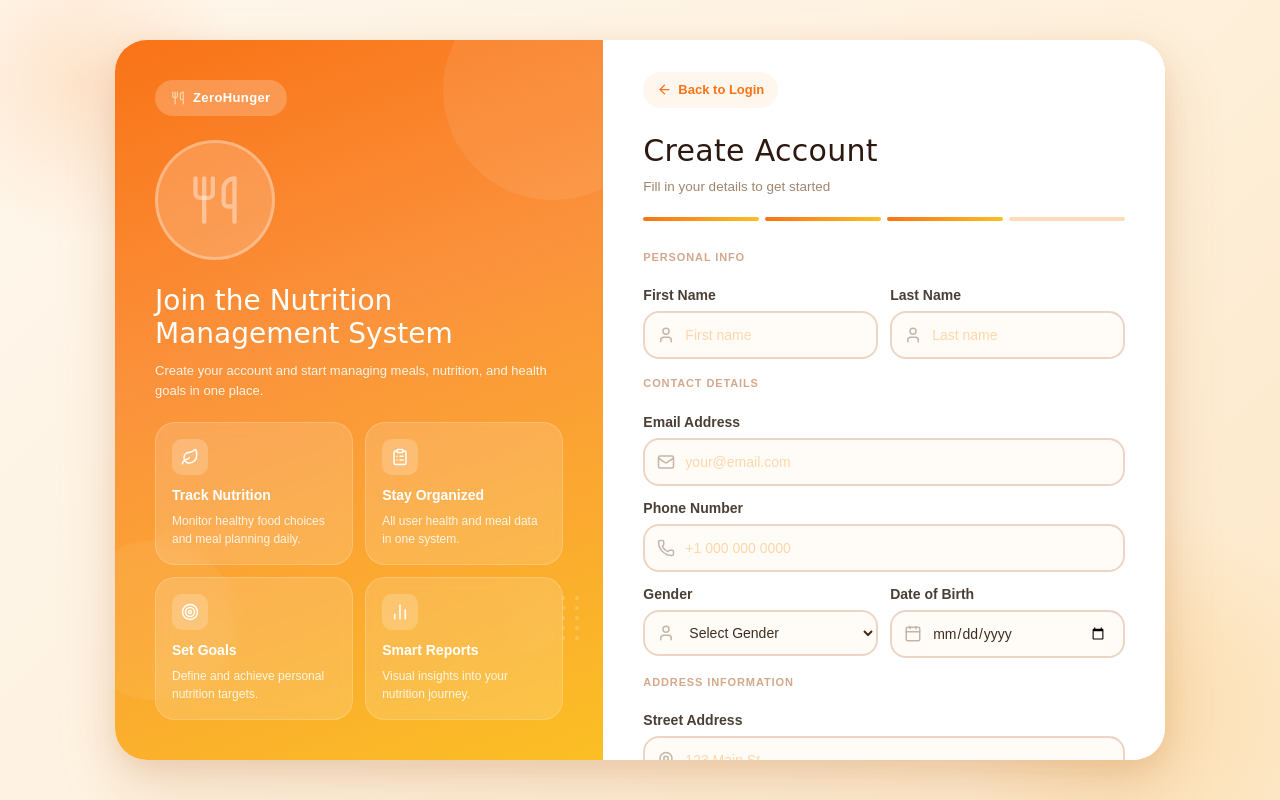
Test case: RegisterPage › shows validation error when passwords do not match
Type "John" into the field with placeholder "First name".
click(761, 335); type("John")  # box [643, 311, 878, 359]
Type "Doe" into the field with placeholder "Last name".
click(1008, 335); type("Doe")  # box [890, 311, 1125, 359]
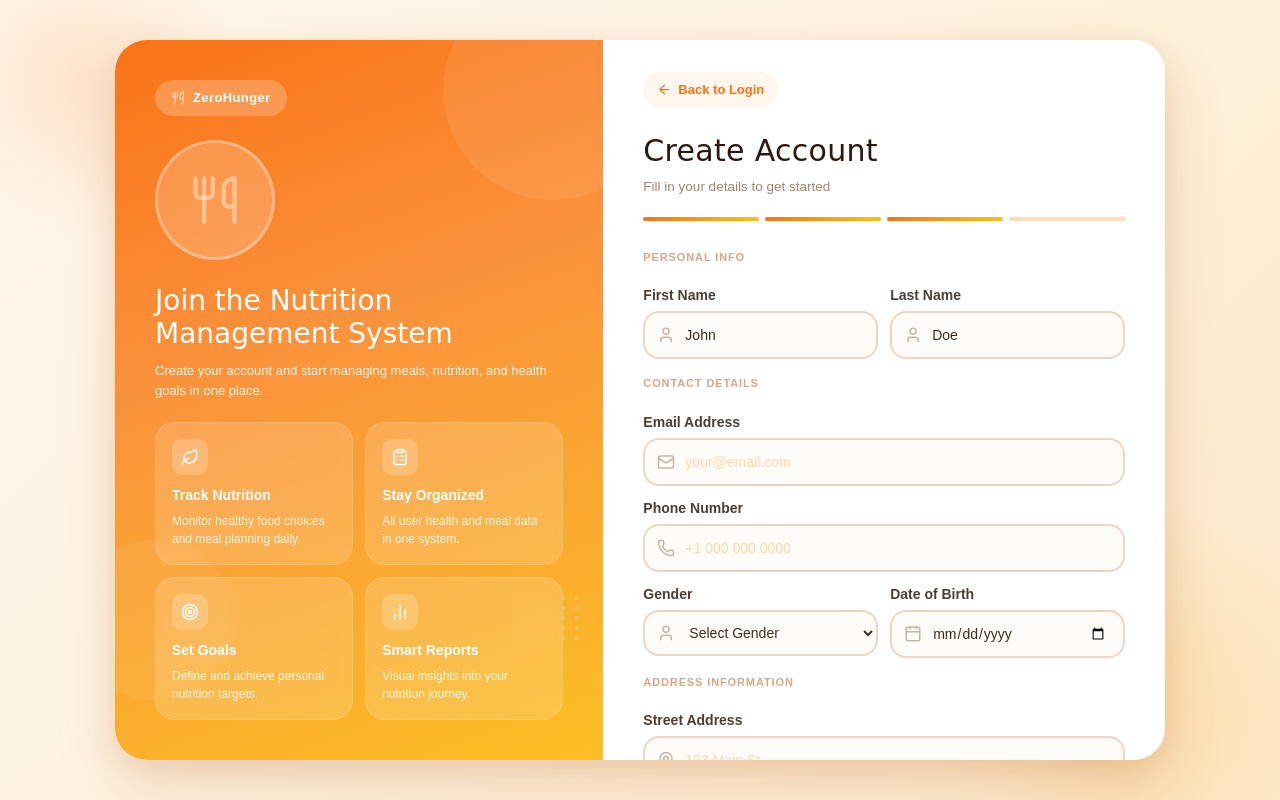
Type "john@mail.com" into the field with placeholder "your@email.com".
click(884, 462); type("john@mail.com")  # box [643, 438, 1125, 486]
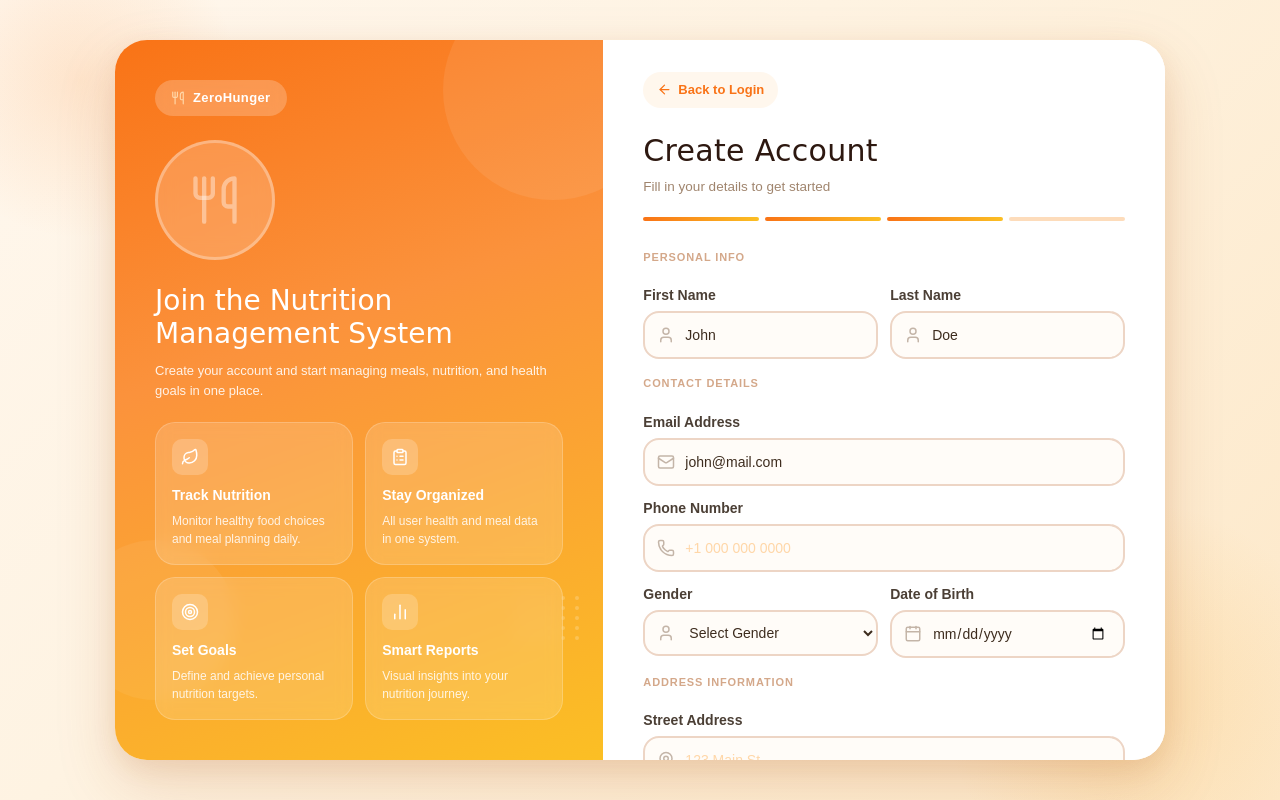
Type "1234567890" into the field with placeholder "+1 000 000 0000".
click(884, 548); type("1234567890")  # box [643, 524, 1125, 572]
(page scrolled)
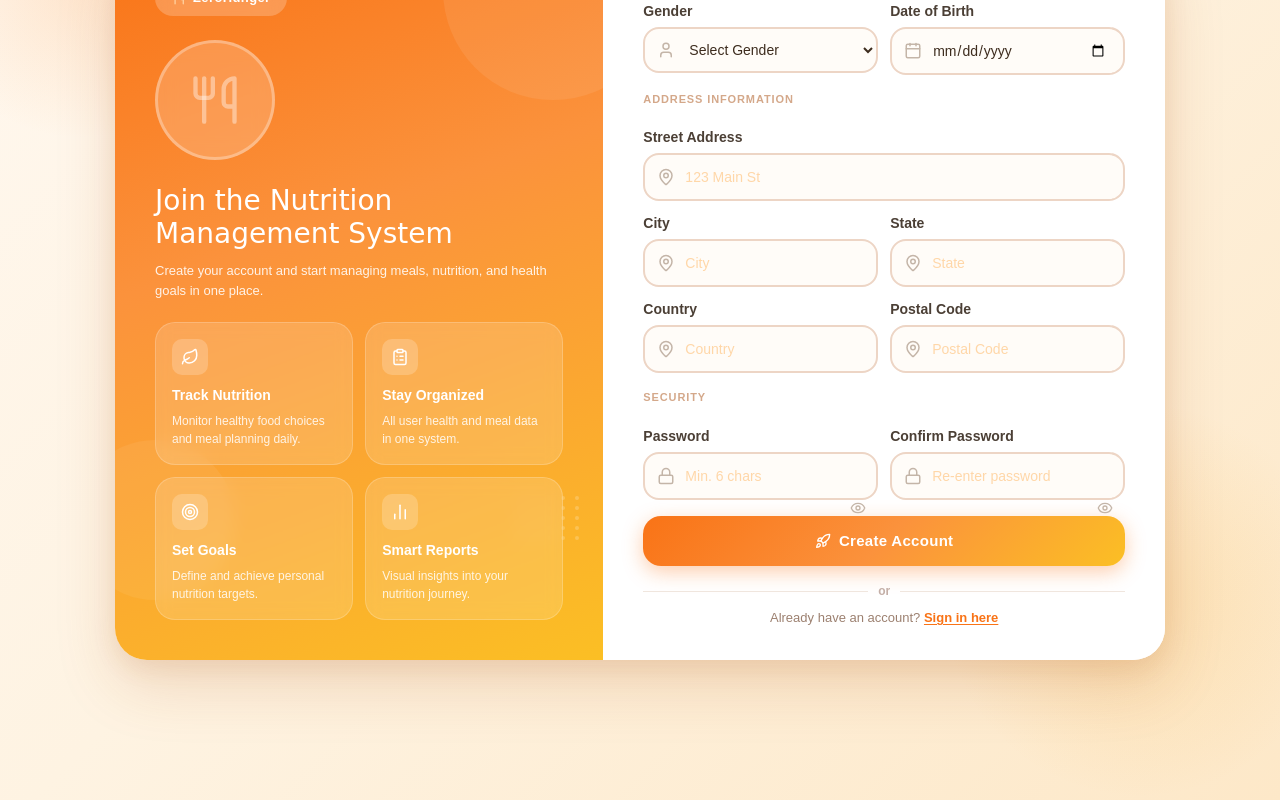
Type "password123" into the password field with placeholder "Min. 6 chars".
click(761, 476); type("password123")  # box [643, 452, 878, 500]
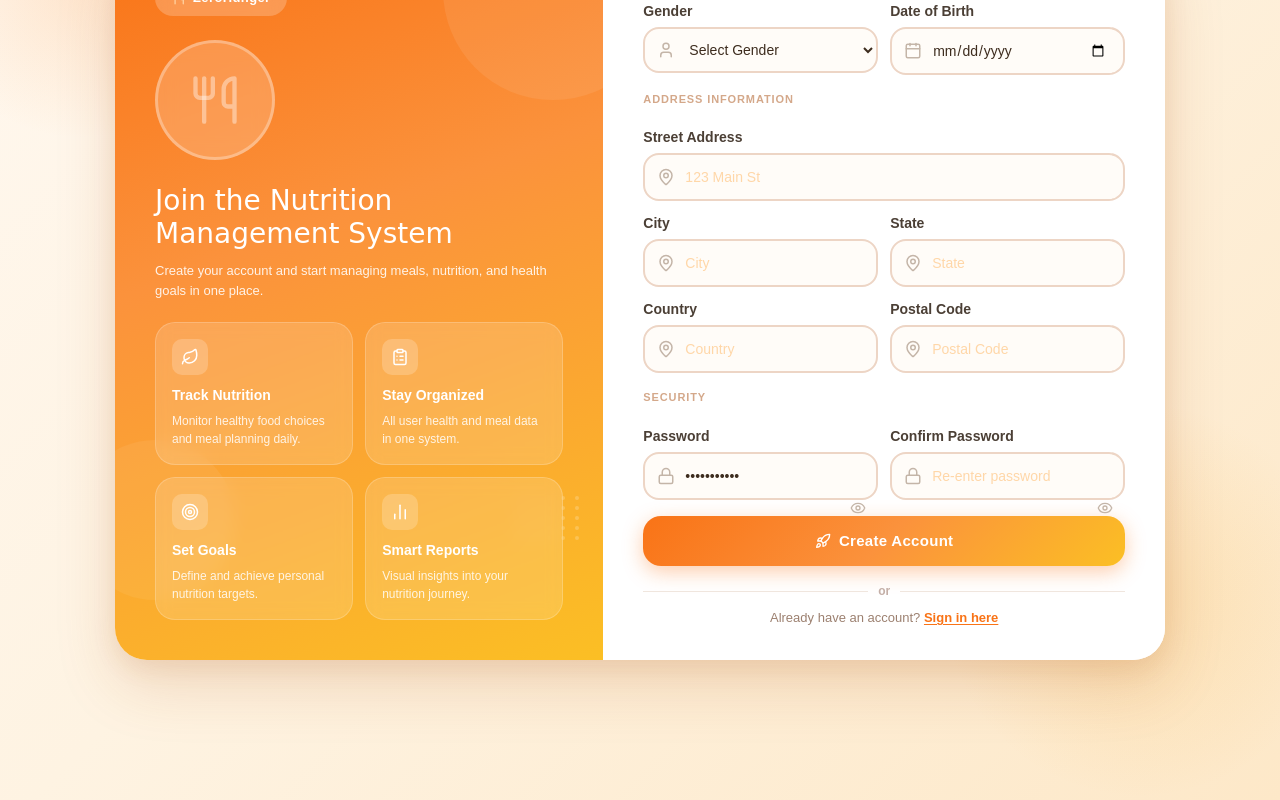
Type "different123" into the password field with placeholder "Re-enter password".
click(1008, 476); type("different123")  # box [890, 452, 1125, 500]
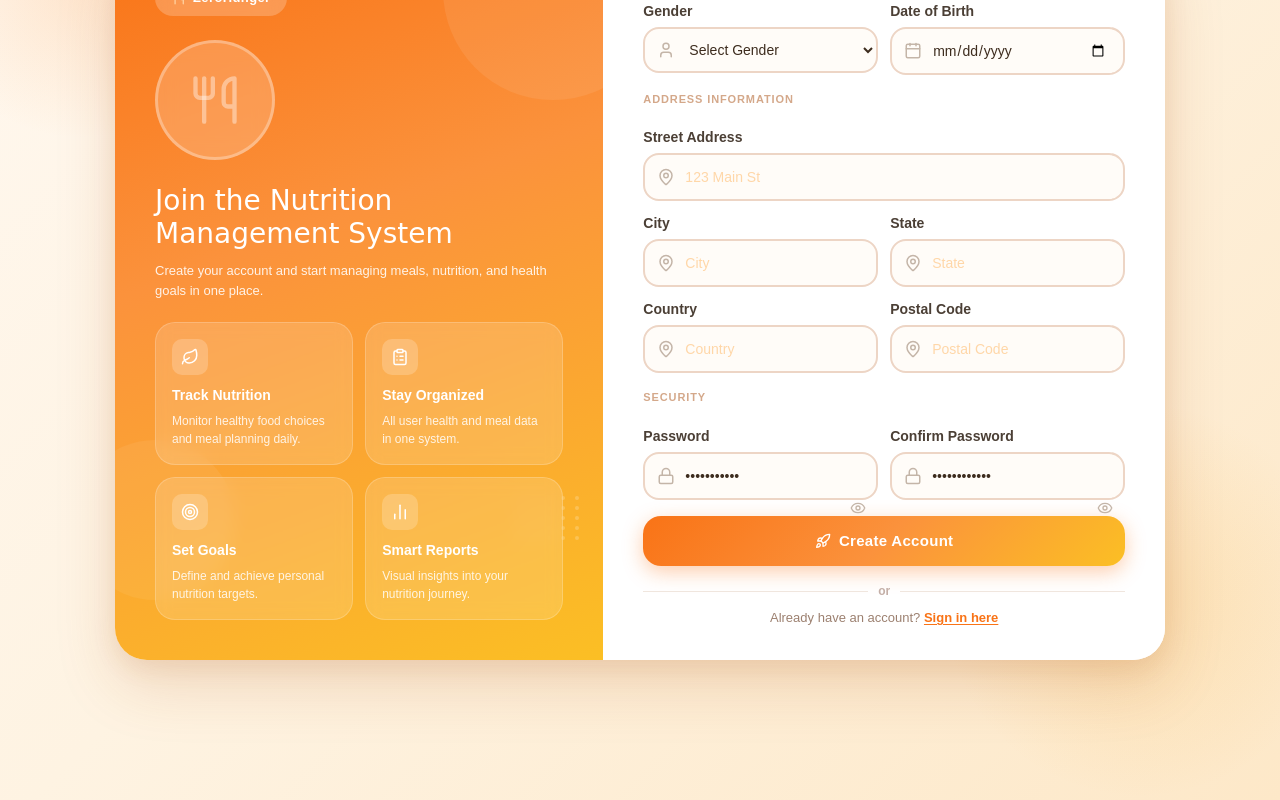
Click the button "Create Account".
click(884, 541)  # box [643, 516, 1125, 566]
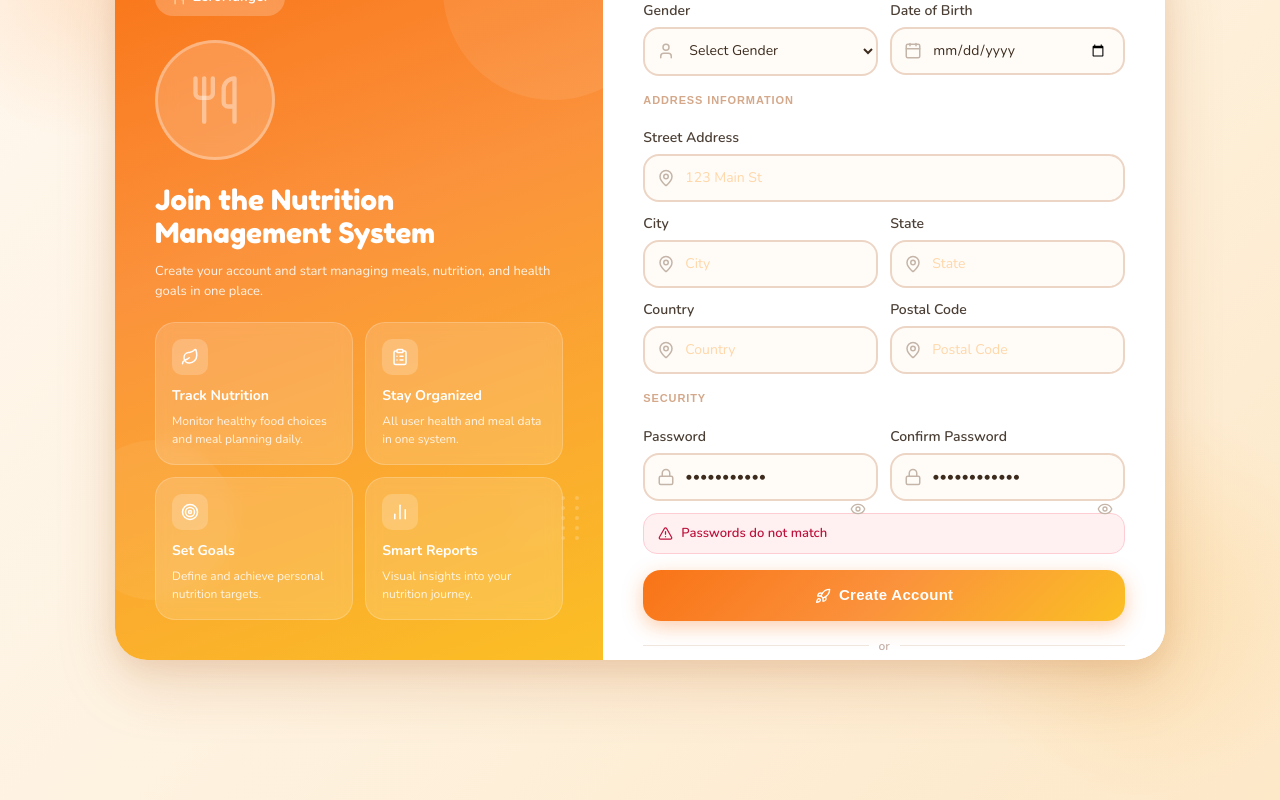
Expected: the text "Passwords do not match" is shown, [681, 524, 827, 543]
